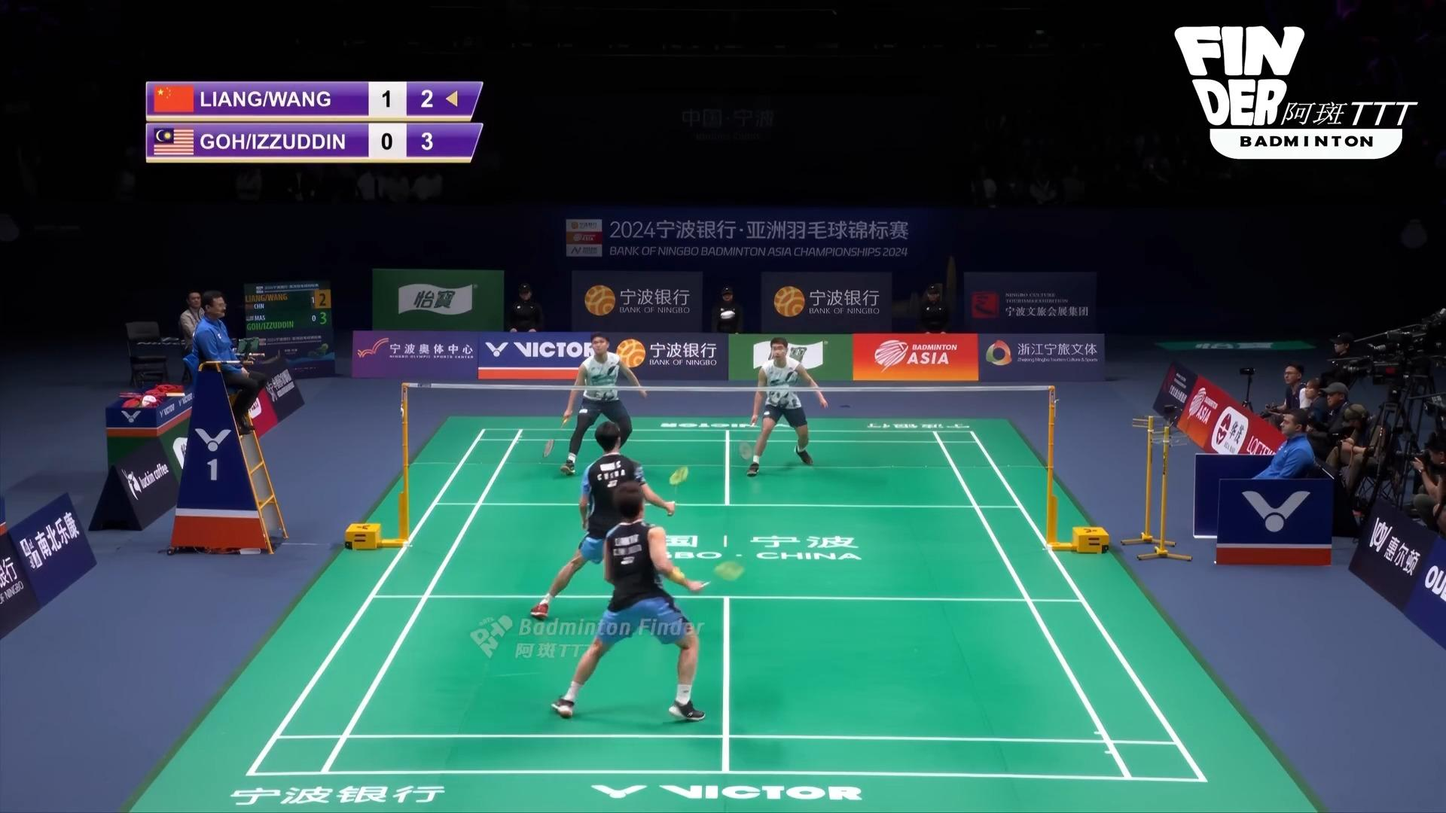player: (552, 482, 706, 722), (530, 422, 675, 619), (562, 331, 648, 476), (748, 337, 828, 477)
shuttlecock: (719, 308, 736, 321)
